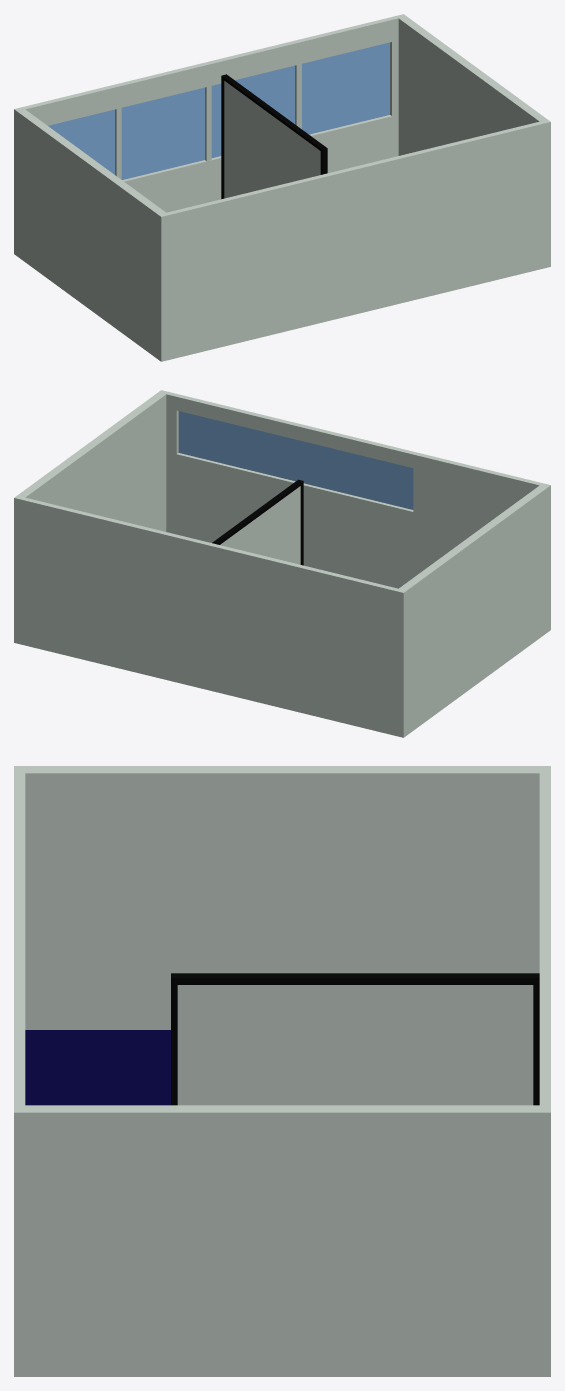
The model's file is LIRLab.fbx.
3 views of the same model, one above another, from view 1: azimuth 30°, elevation 25°; view 2: azimuth 150°, elevation 25°; view 3: azimuth 270°, elevation 25° (orthographic). The views are drawn at different scales.
Parts seen in each view (by area): view 1: Cube; view 2: Cube; view 3: Cube.
Boxes of the visible parts, x1,y1,x2,y2 form: Cube: [14, 14, 550, 361]; Cube: [14, 390, 550, 737]; Cube: [14, 766, 550, 1376].
Size of the model in its own units: 1798 by 639 by 1177.
